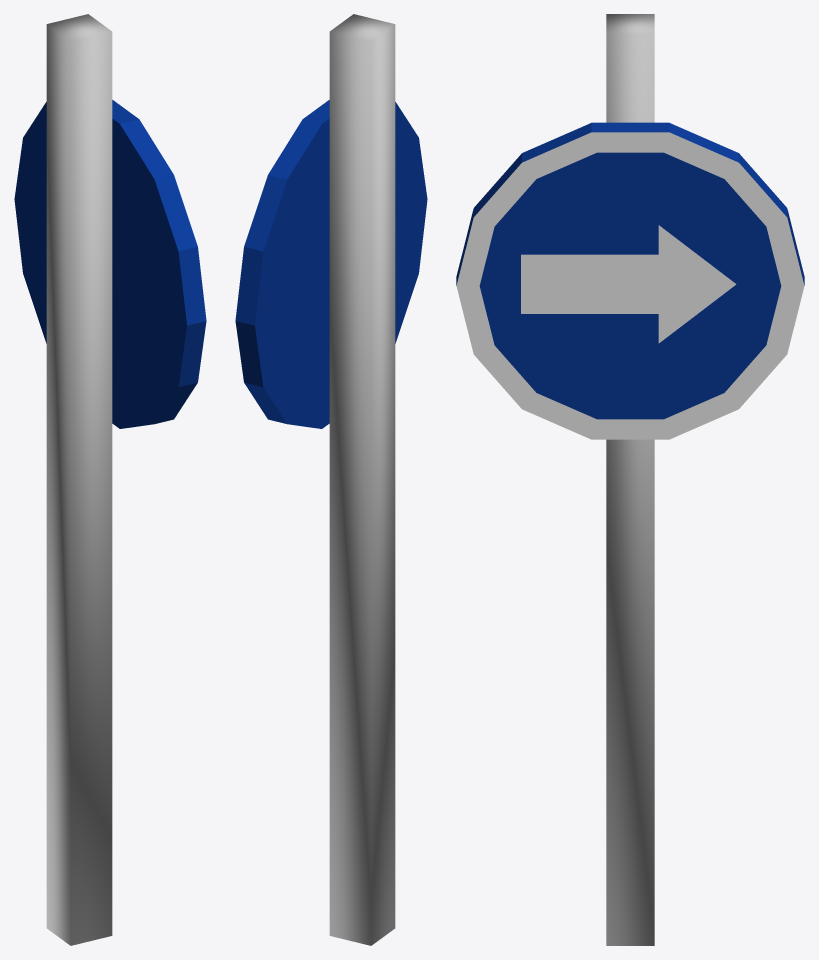
The model's file is signBlueRight.fbx.
3 views of the same model, side by side, from view 1: azimuth 30°, elevation 25°; view 2: azimuth 150°, elevation 25°; view 3: azimuth 270°, elevation 25° (orthographic).
Visible parts, largest first — view 1: BlueSignRight; view 2: BlueSignRight; view 3: BlueSignRight.
Part boxes in pixels (left/top/right/bottom): BlueSignRight: left=14, top=14, right=206, bottom=945; BlueSignRight: left=235, top=14, right=427, bottom=945; BlueSignRight: left=456, top=14, right=804, bottom=945.
Size of the model in its own units: 31.67 by 445 by 154.
